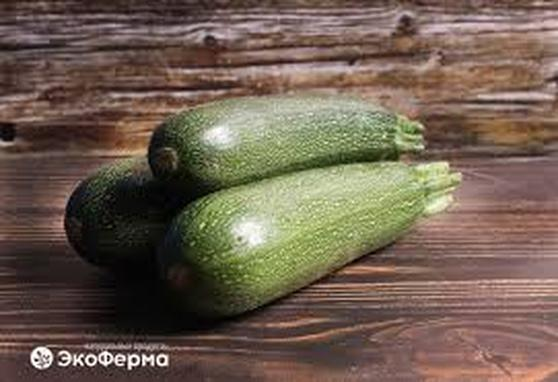zucchini: (145, 67, 426, 187)
